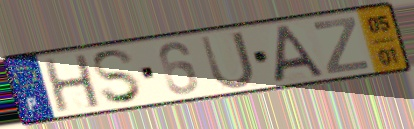6: (156, 40, 201, 97)
A: (272, 23, 326, 85)
H: (40, 52, 104, 115)
S: (89, 47, 145, 106)
U: (197, 29, 258, 92)
Z: (310, 14, 371, 76)
